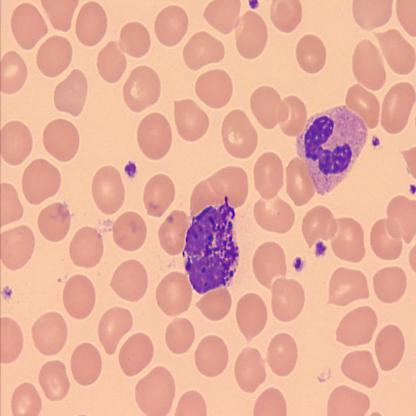Basophil: (296, 104, 368, 195), (182, 196, 246, 295)
